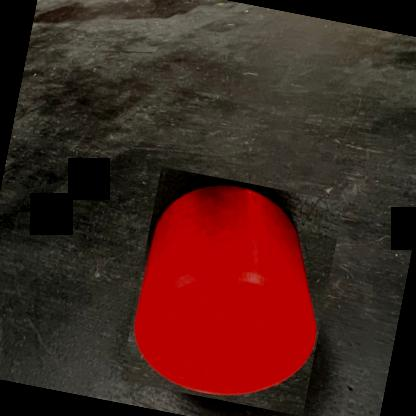red cylinder: (119, 166, 343, 416)
